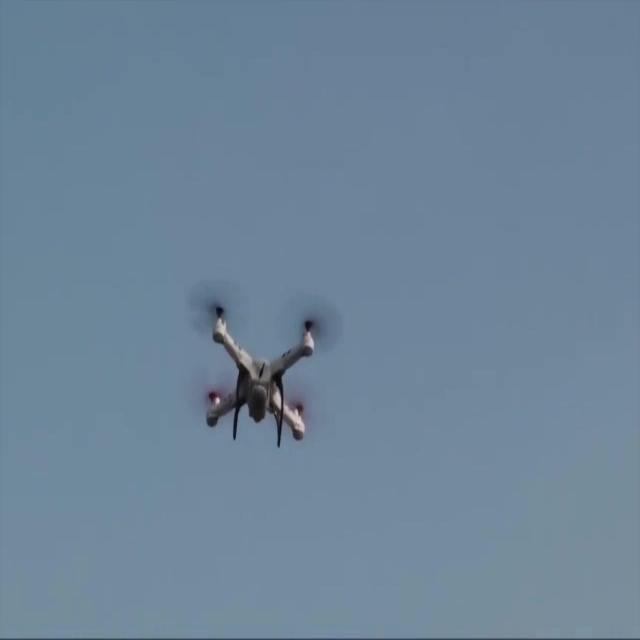UAV: (202, 294, 322, 452)
